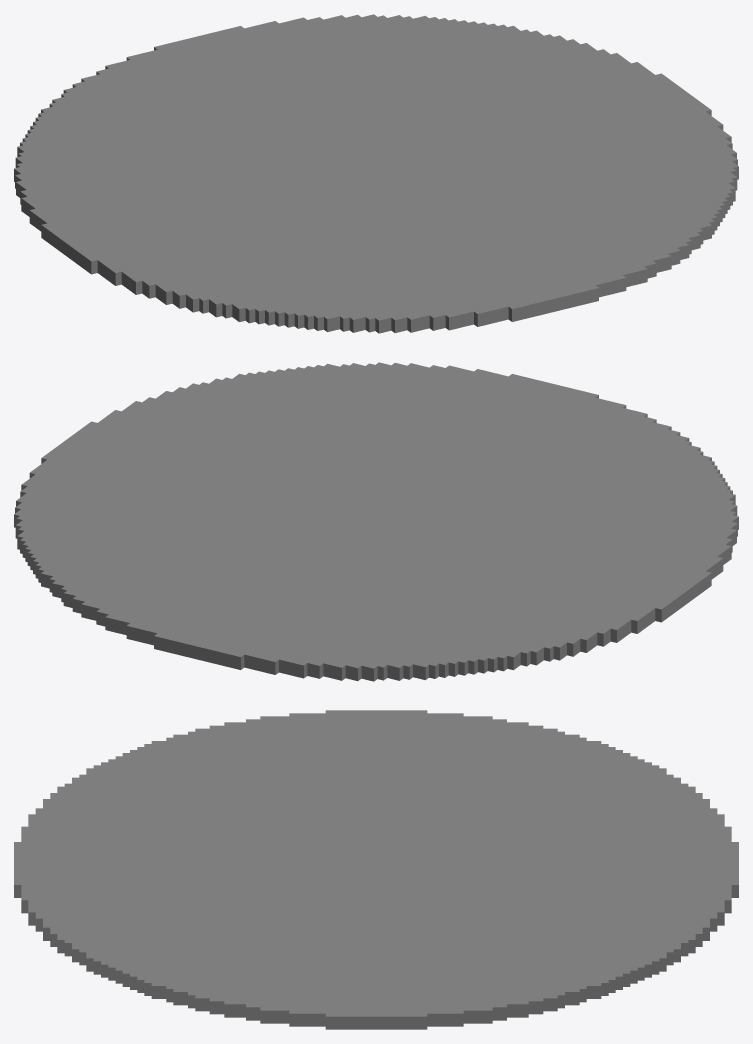
File: circle_floor.obj
The picture shows the model from 3 angles, top to bottom: view 1: azimuth 30°, elevation 25°; view 2: azimuth 150°, elevation 25°; view 3: azimuth 270°, elevation 25°; orthographic projection.
Size of the model in its own units: 10 by 0.2 by 10.
Materials: 1 (1 with a texture image).
